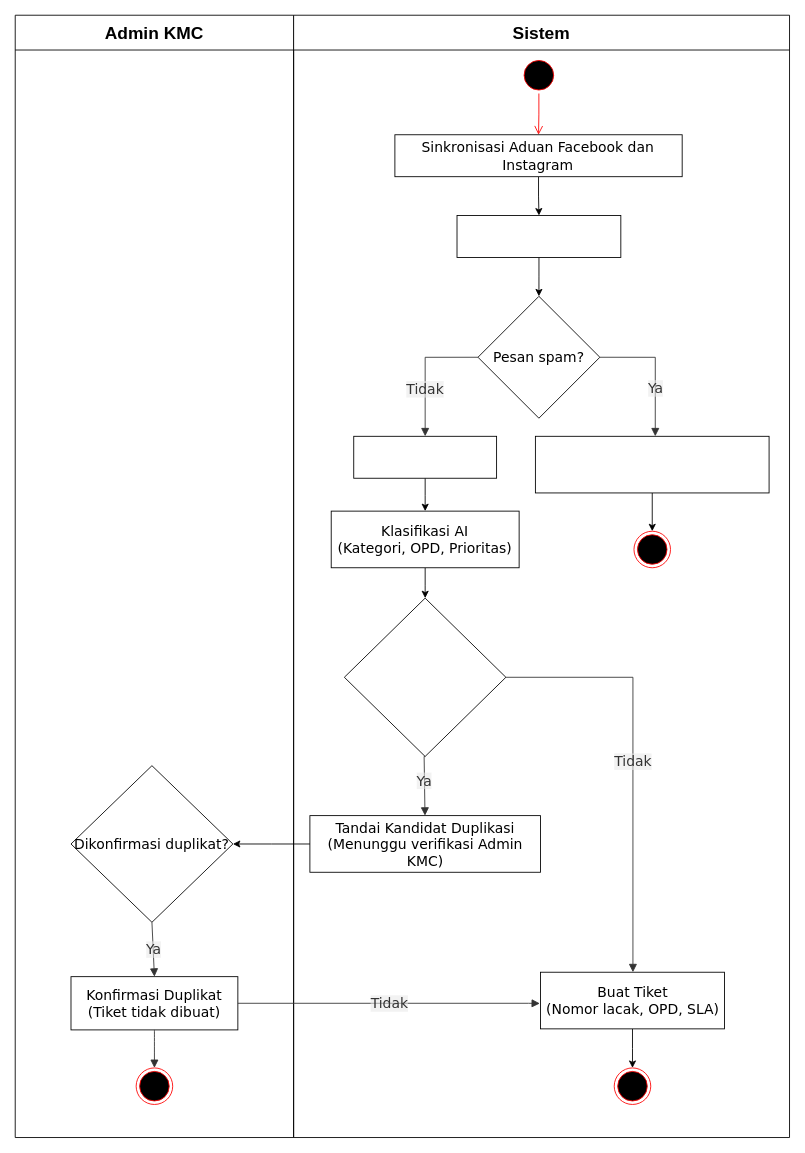
Image size: 805x1153. Some labels were removed from this diagram. The shapes that lost their labels are listed below. From the top down, each one's centre as x and y in pixels, then its label:
At point (538, 236): "Simpan Data Mention".
At point (425, 456): "Simpan Notifikasi".
At point (652, 464): "Pesan Tidak Diproses (Notifikasi dan tiket tidak dibuat)".
At point (424, 676): "Kemungkinan duplikasi?".
